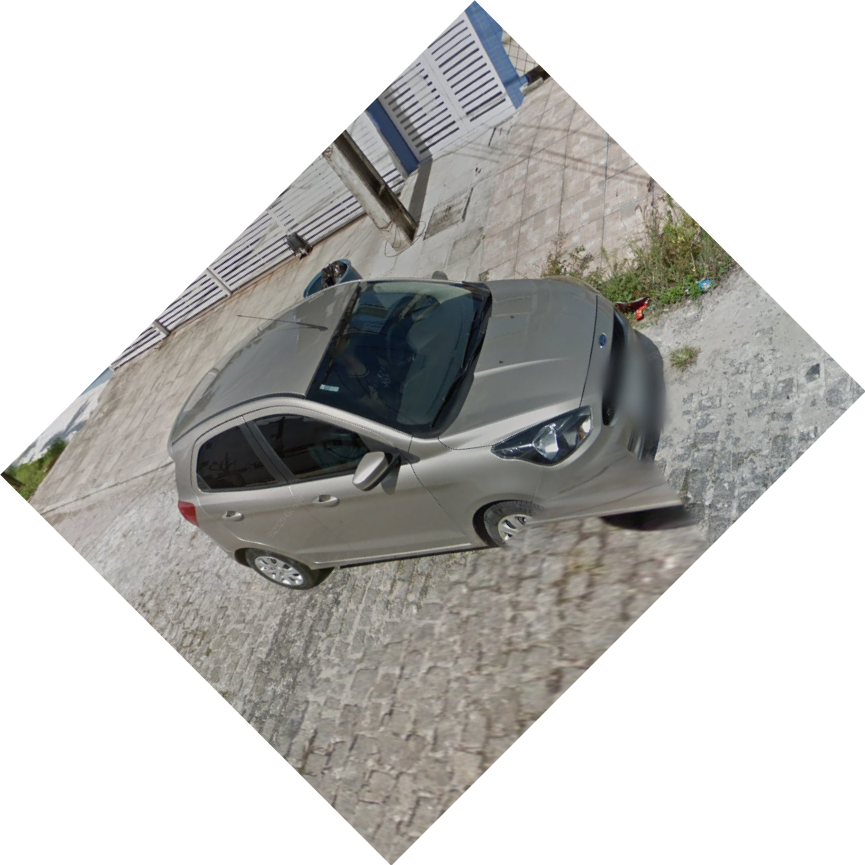car: (161, 275, 671, 595)
